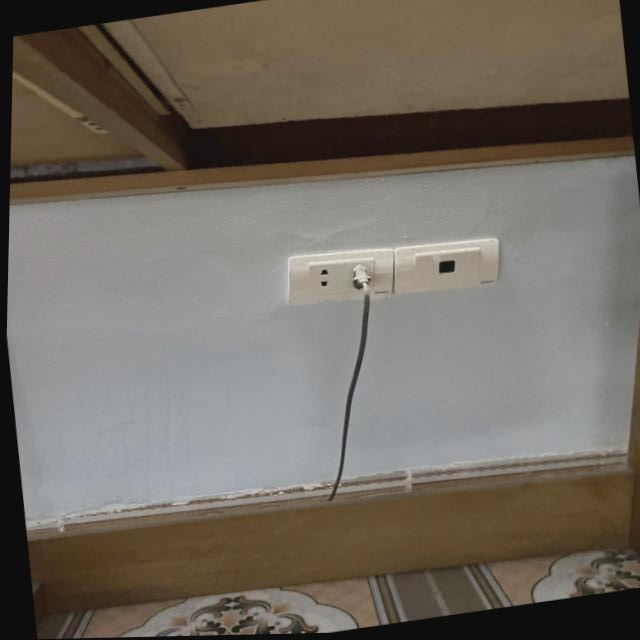outlet: (281, 243, 399, 313), (387, 235, 504, 300)
